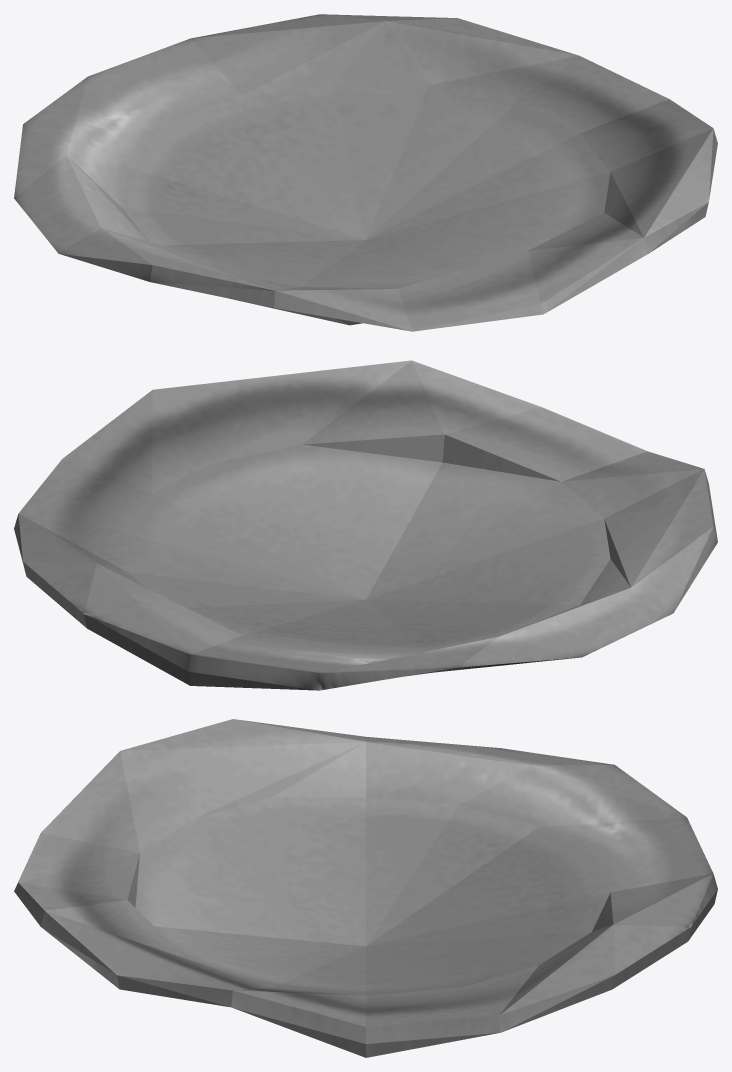
The model's file is tavern_plate_LOD.dae.
3 views of the same model, one above another, from view 1: azimuth 30°, elevation 25°; view 2: azimuth 150°, elevation 25°; view 3: azimuth 270°, elevation 25° (orthographic).
Parts seen in each view (by area): view 1: Default_Layer; view 2: Default_Layer; view 3: Default_Layer.
Part boxes in pixels (left/top/right/bottom): Default_Layer: left=14, top=14, right=717, bottom=331; Default_Layer: left=14, top=360, right=717, bottom=690; Default_Layer: left=14, top=719, right=717, bottom=1057.
Bounding box in the file's own units: 1.39 × 0.211 × 1.39.
